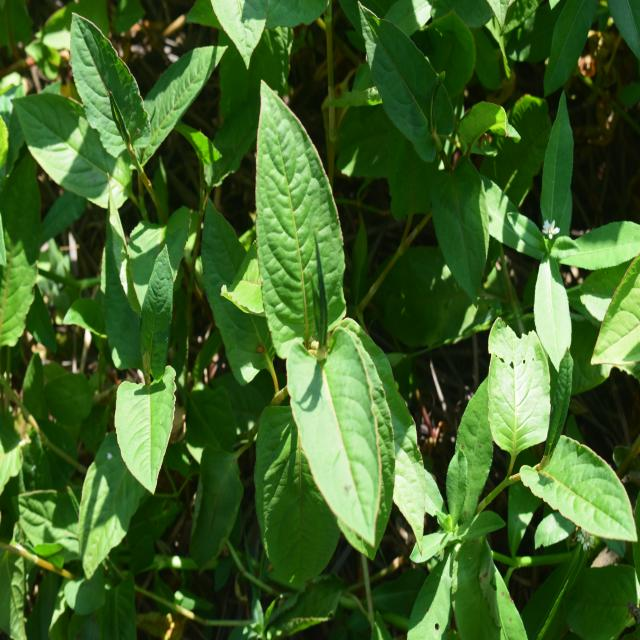Chinese_knotweed: (225, 93, 403, 553)
